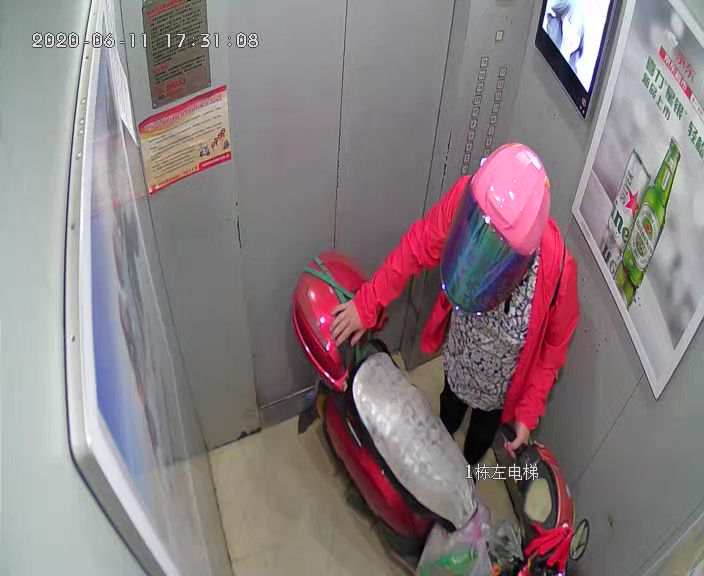Electric-bicycle: (294, 250, 588, 575)
